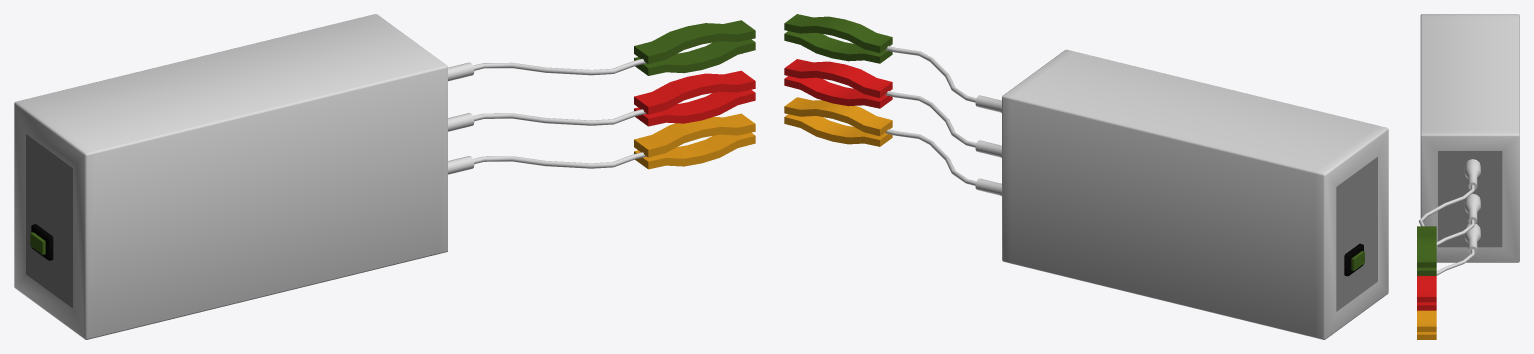
Rendered from КИГ.fbx.
The picture shows the model from 3 angles, left to right: view 1: azimuth 30°, elevation 25°; view 2: azimuth 150°, elevation 25°; view 3: azimuth 270°, elevation 25°; orthographic projection. The views are drawn at different scales.
Visible parts, largest first — view 1: Cube; view 2: Cube; view 3: Cube.
Boxes of the visible parts, x1,y1,x2,y2 form: Cube: [14, 14, 755, 339]; Cube: [784, 14, 1388, 339]; Cube: [1417, 14, 1519, 339].
Bounding box in the file's own units: 21.56 × 5.7 × 4.14.
